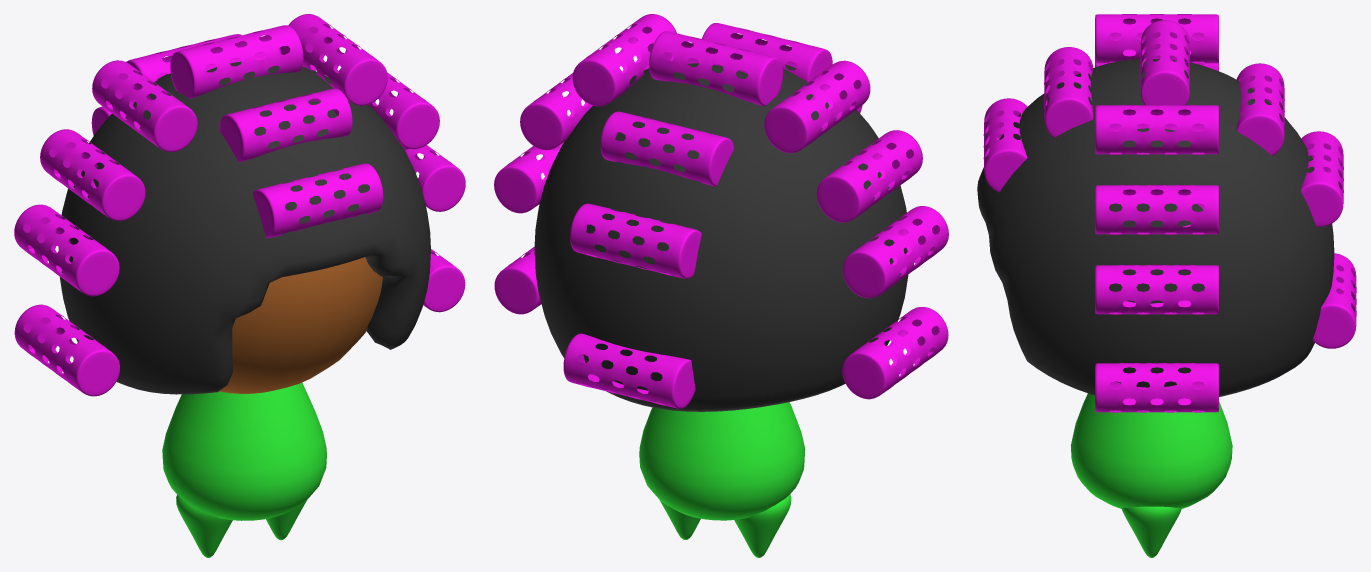
Rendered from Player_Abu.FBX.
The picture shows the model from 3 angles, left to right: view 1: azimuth 30°, elevation 25°; view 2: azimuth 150°, elevation 25°; view 3: azimuth 270°, elevation 25°; orthographic projection. The views are drawn at different scales.
Parts seen in each view (by area): view 1: Pelo, Rulo_Abuela_11, Cuerpo, Cabeza, Pier_Izq001, Pier_Izq; view 2: Pelo, Rulo_Abuela_11, Cuerpo, Pier_Izq001, Pier_Izq; view 3: Pelo, Rulo_Abuela_11, Cuerpo, Pier_Izq.
Boxes of the visible parts, x1,y1,x2,y2 form: Pelo: (58, 61, 430, 394); Rulo_Abuela_11: (14, 14, 465, 396); Cuerpo: (162, 383, 326, 520); Cabeza: (219, 257, 382, 393); Pier_Izq001: (176, 495, 232, 557); Pier_Izq: (266, 500, 306, 540); Pelo: (534, 54, 908, 411); Rulo_Abuela_11: (494, 14, 948, 408); Cuerpo: (639, 402, 805, 520); Pier_Izq001: (734, 494, 791, 557); Pier_Izq: (659, 500, 700, 539); Pelo: (977, 59, 1334, 396); Rulo_Abuela_11: (983, 14, 1356, 412); Cuerpo: (1070, 393, 1232, 508); Pier_Izq: (1121, 506, 1181, 557).
Size of the model in its own units: 92.41 by 114 by 79.39.
